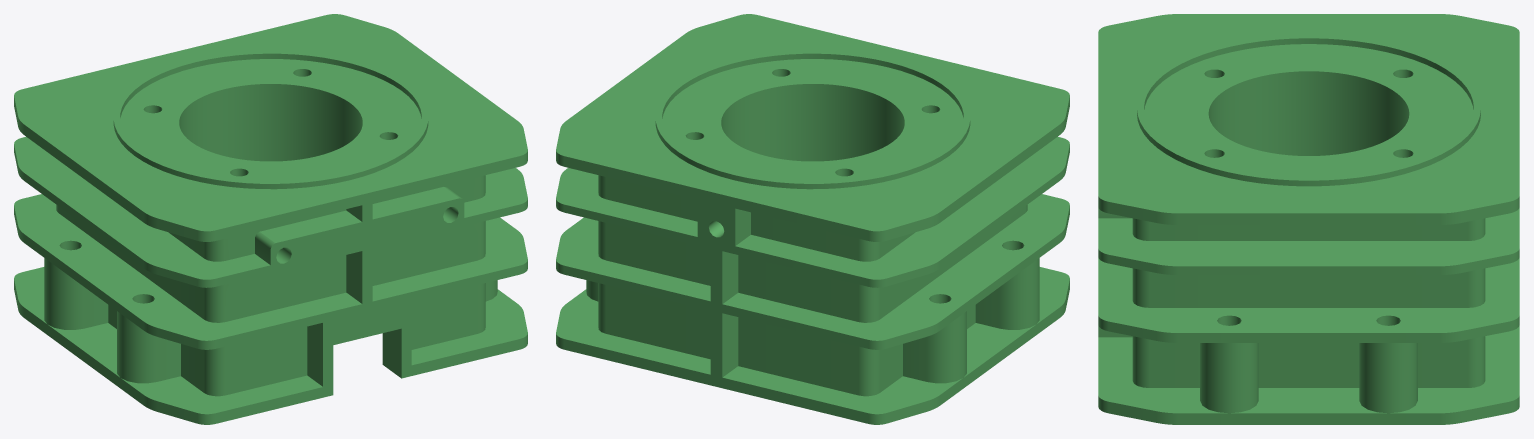
Rendered from SampleMesh_Mecanic.fbx.
3 renders of one model, left to right at view 1: azimuth 30°, elevation 25°; view 2: azimuth 150°, elevation 25°; view 3: azimuth 270°, elevation 25°, orthographic. The views are drawn at different scales.
Visible parts, largest first — view 1: Mesh; view 2: Mesh; view 3: Mesh.
Boxes of the visible parts, x1=… form: Mesh: x1=14, y1=14, x2=527, y2=424; Mesh: x1=556, y1=14, x2=1069, y2=424; Mesh: x1=1098, y1=14, x2=1519, y2=424.
Size of the model in its own units: 8.23 by 4.18 by 7.35.
